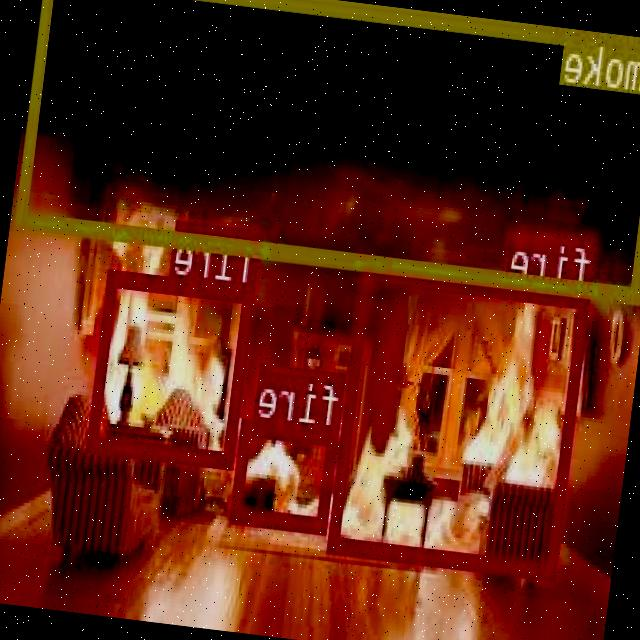fire: (330, 261, 592, 577), (90, 266, 256, 464), (233, 417, 340, 531)
smoke: (17, 0, 640, 302)
